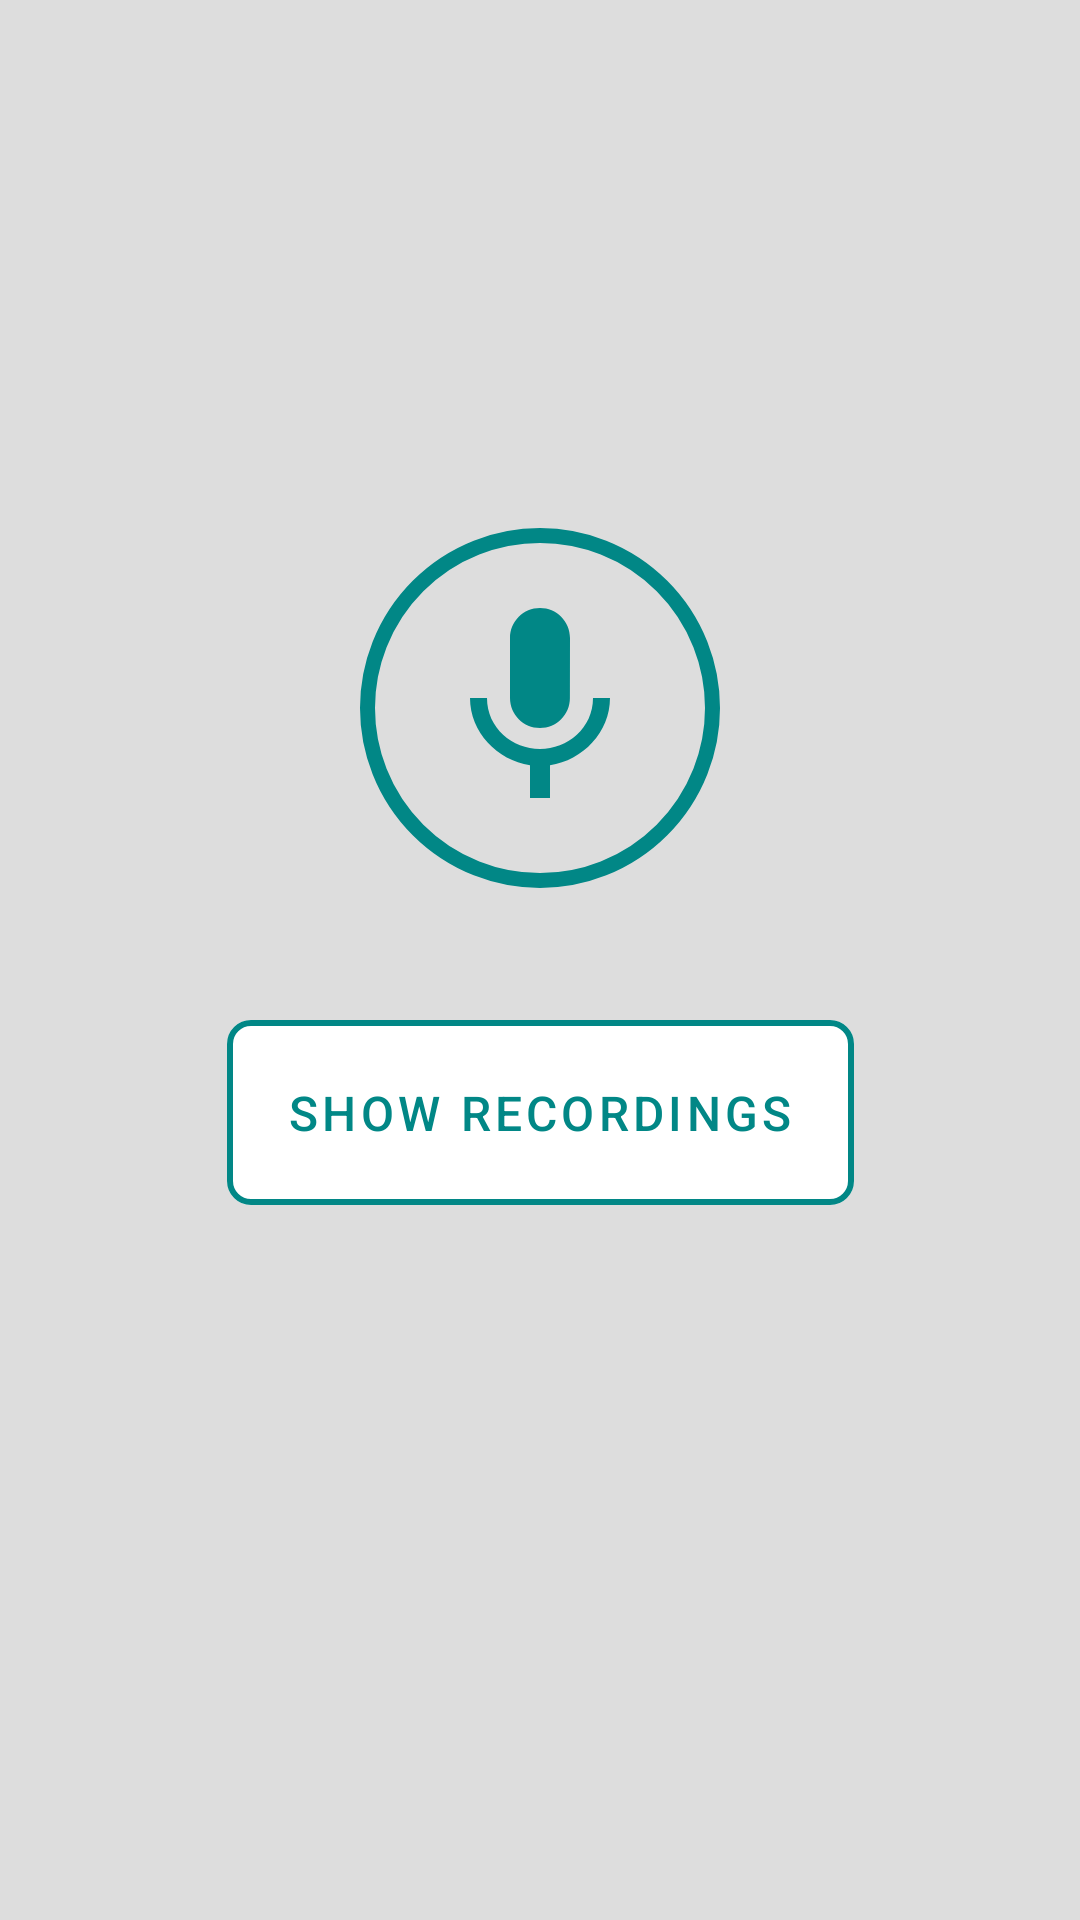

Locate icon controls on the screen. Image size 1080×1920, boxes as (x1, y1, x2, y2).
mic: (360, 528, 720, 888)
